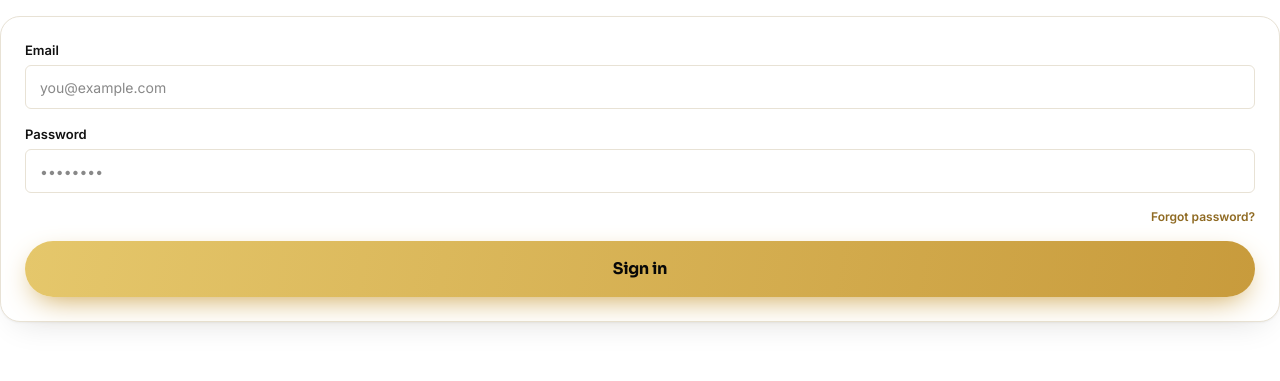
Test case: LoginForm › shows a server-error message when the request fails outright
Type "jane@example.com" into the field labelled "Email" at (640, 87), box [25,65,1255,109]
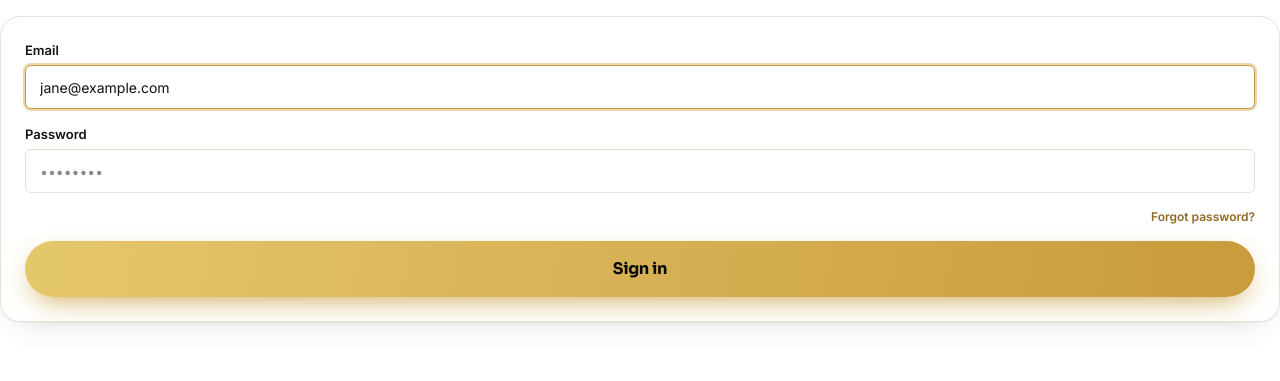
Type "password123" into the password field labelled "Password" at (640, 171), box [25,149,1255,193]
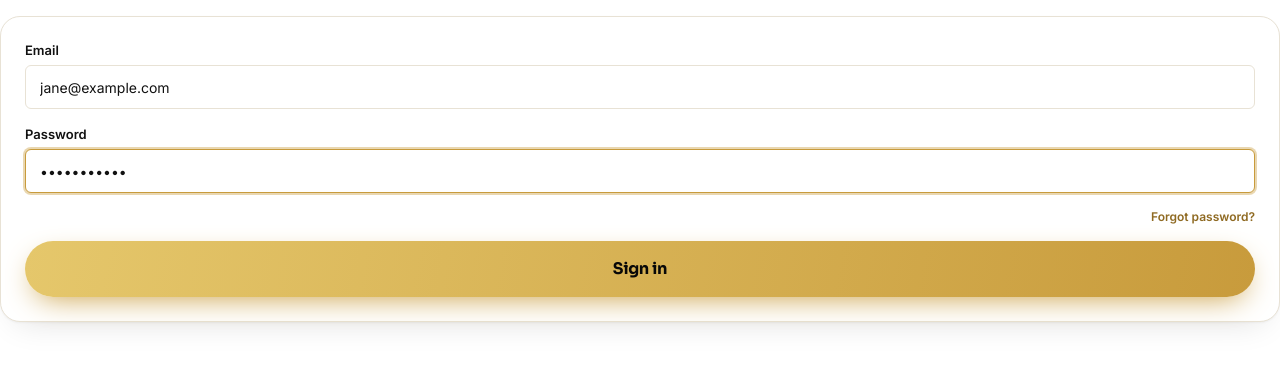
Click the button "Sign in" at (640, 269), box [25,241,1255,297]
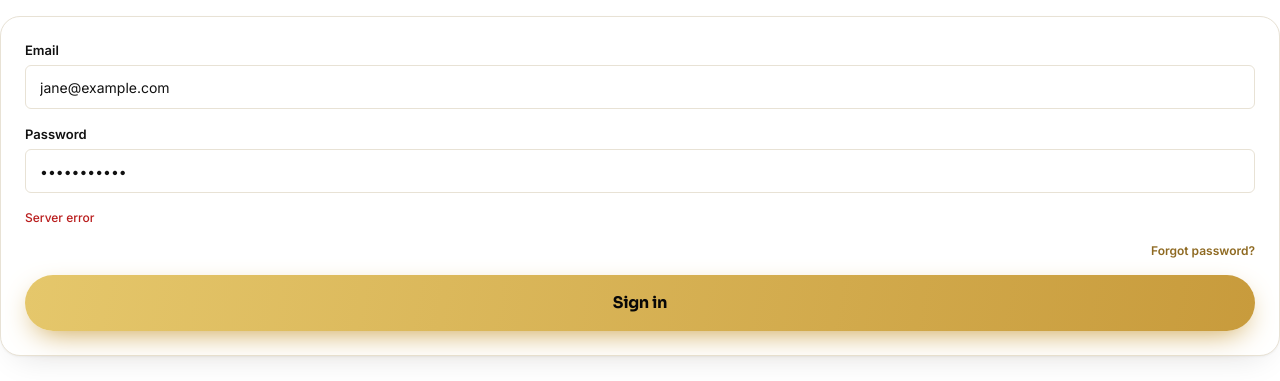
Expected: the message reads "Server error", [25,210,94,225]
